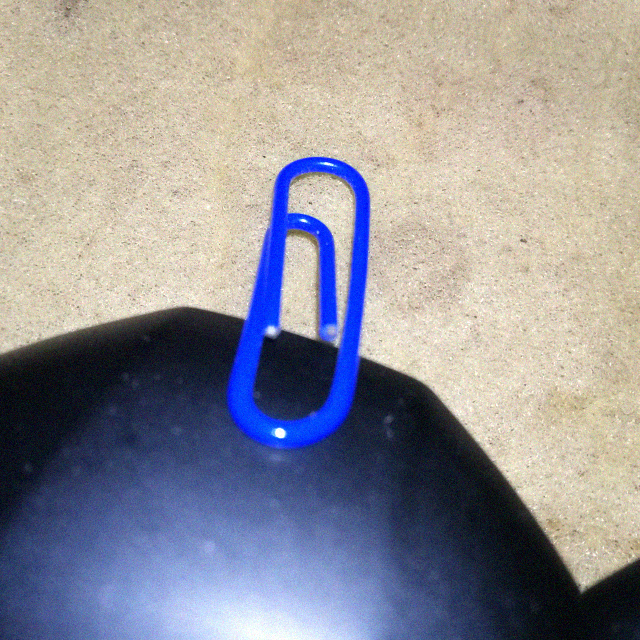pin: (215, 139, 406, 456)
